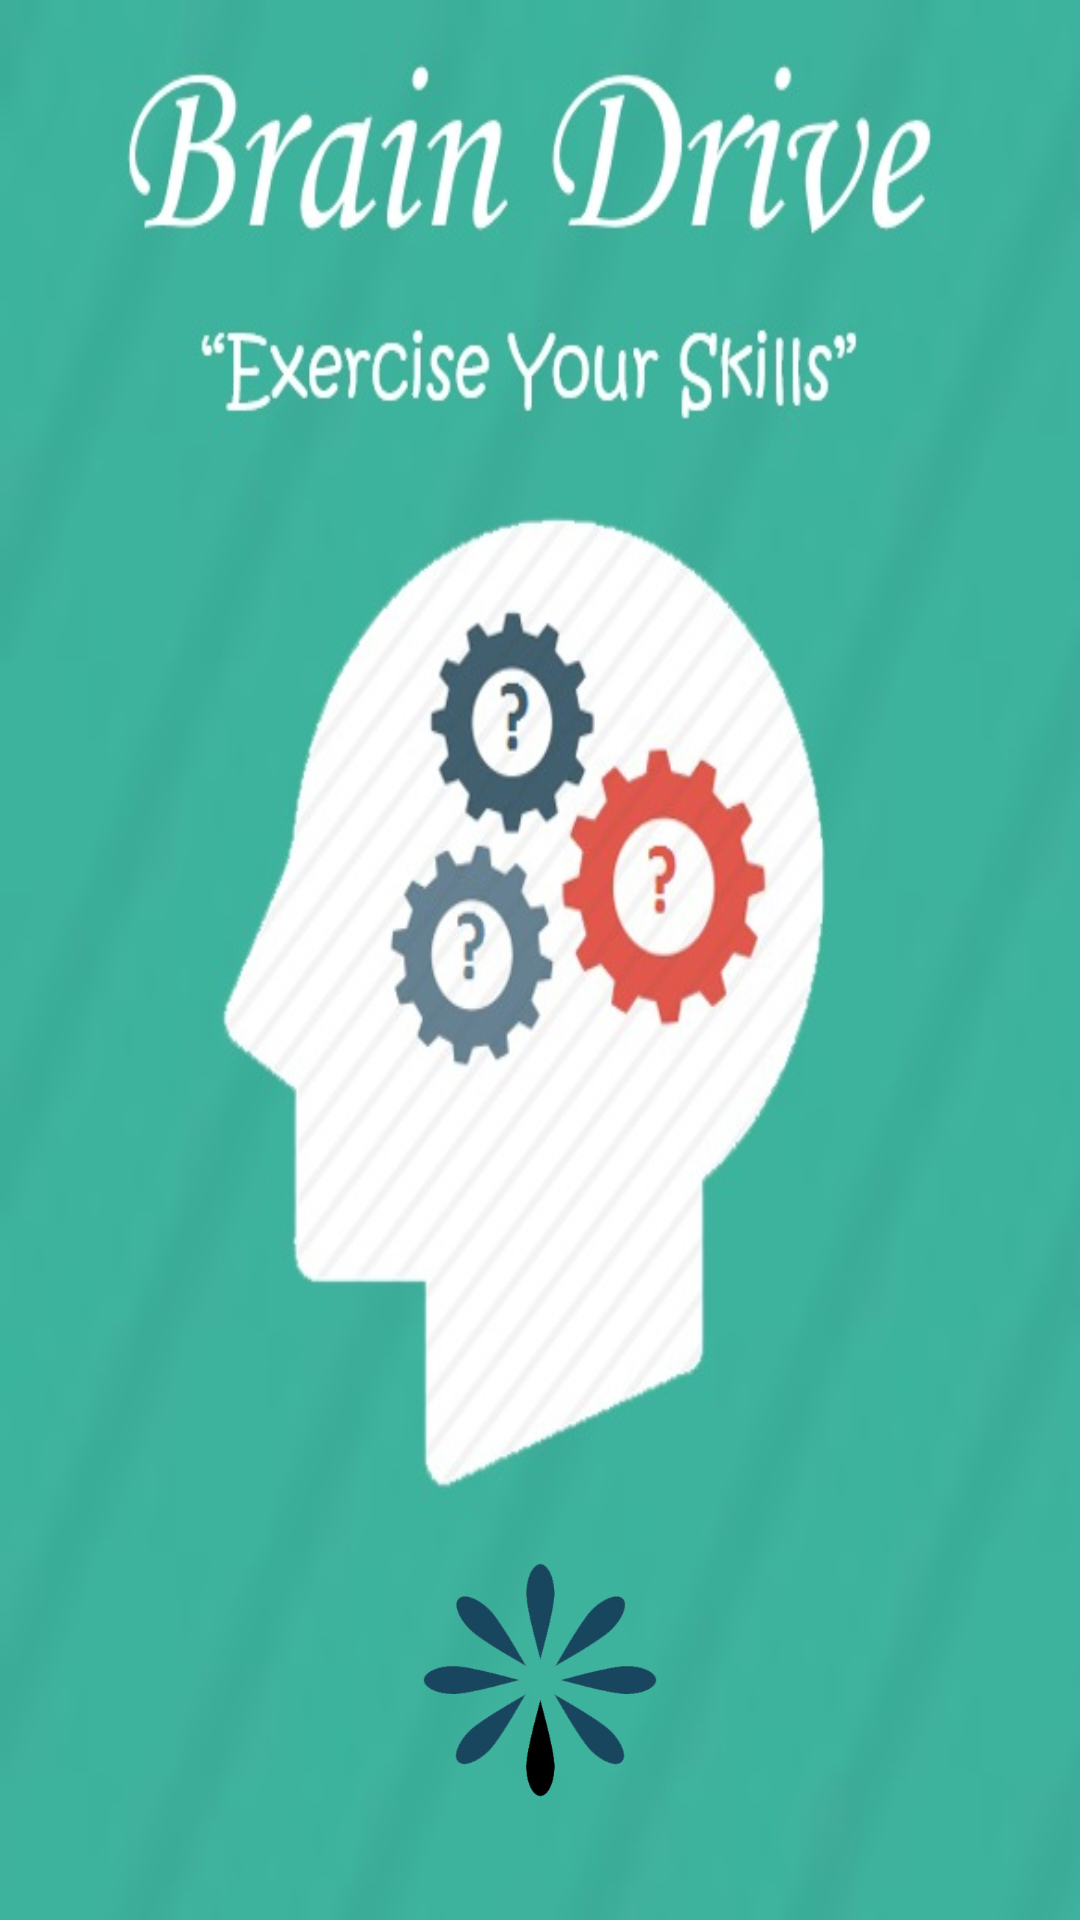

Screen size 1080w x 1920h. Icon name, then its center in pixels as [x,y]:
busydark: [540,1680]
